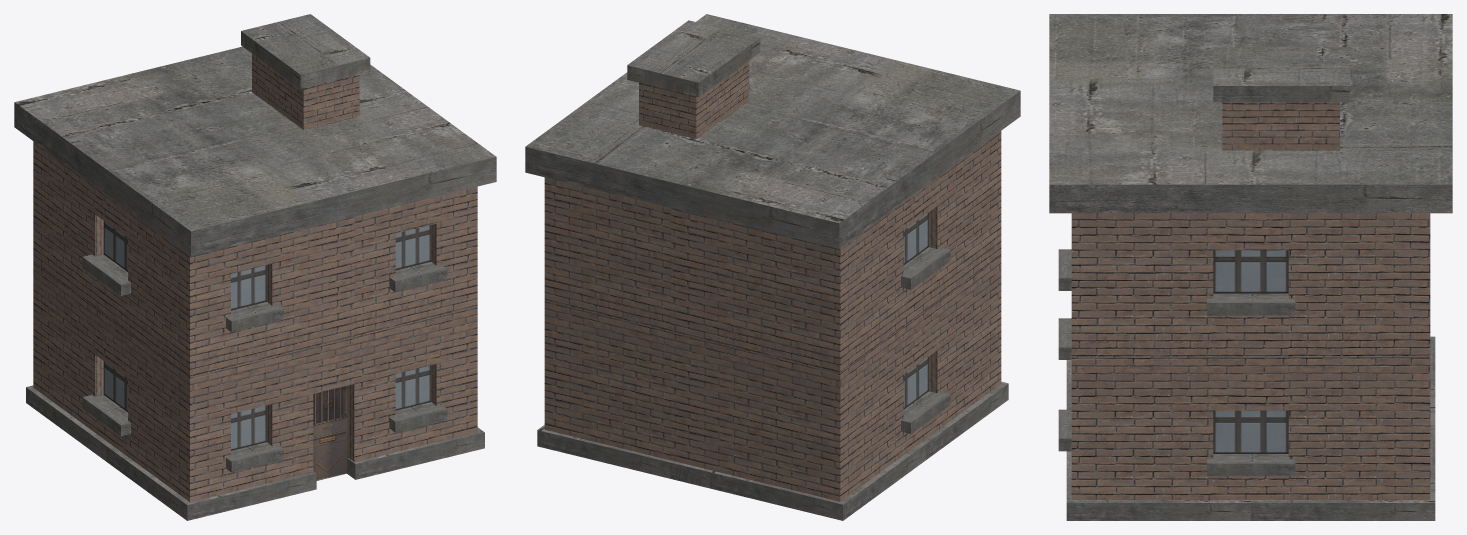
File: Building02B1.fbx
The picture shows the model from 3 angles, left to right: view 1: azimuth 30°, elevation 25°; view 2: azimuth 150°, elevation 25°; view 3: azimuth 270°, elevation 25°; orthographic projection. The views are drawn at different scales.
Visible parts, largest first — view 1: UB; view 2: UB; view 3: UB.
Part boxes in pixels (left/top/right/bottom): UB: left=14, top=14, right=496, bottom=520; UB: left=525, top=14, right=1020, bottom=520; UB: left=1049, top=14, right=1452, bottom=520.
Size of the model in its own units: 3.22 by 3.57 by 3.21.
